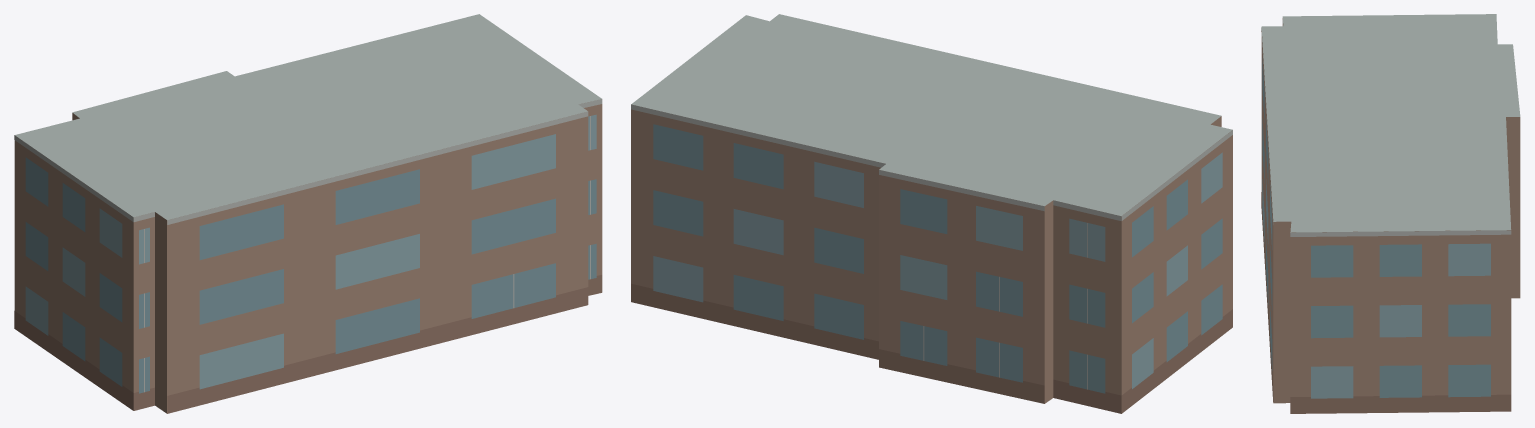
File: survey-upis-32480515.glb
3 renders of one model, left to right at view 1: azimuth 30°, elevation 25°; view 2: azimuth 150°, elevation 25°; view 3: azimuth 270°, elevation 25°, orthographic. The views are drawn at different scales.
Visible parts, largest first — view 1: survey-upis-32480515.tmp; view 2: survey-upis-32480515.tmp; view 3: survey-upis-32480515.tmp.
Boxes of the visible parts, left/top/right/bottom form: survey-upis-32480515.tmp: left=14, top=14, right=602, bottom=413; survey-upis-32480515.tmp: left=631, top=14, right=1232, bottom=413; survey-upis-32480515.tmp: left=1261, top=14, right=1520, bottom=413.
Bounding box in the file's own units: 24.72 × 9.57 × 12.39.
